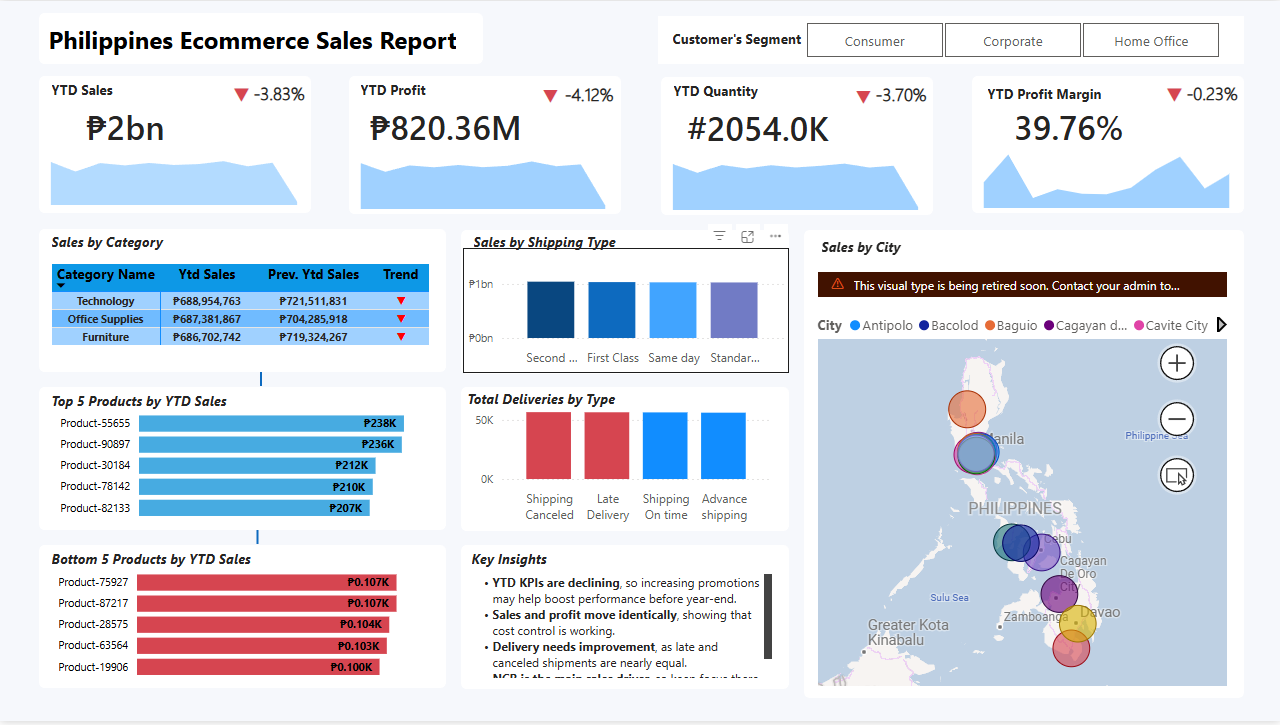

The page's visual inventory and layout, read from the dashboard file:
{"tool":"powerbi","page":{"name":"Page 1","canvas":[1280,720],"ordinal":0},"visuals":[{"type":"shape","box":[969.2,75.1,275,137.5],"z":0,"group":"g2"},{"type":"shape","box":[658.1,76.2,275,137.5],"z":0,"group":"g1"},{"type":"shape","box":[36,228,410,143],"z":0},{"type":"shape","box":[36.2,74.6,275,137.5],"z":1000},{"type":"card","fields":{"Values":["sales_record.YTD Profit Margin"]},"box":[979.6,95.8,180,61],"z":1000,"group":"g2"},{"type":"card","fields":{"Values":["sales_record.YTD Concatenated QTY"]},"box":[668.5,96.9,180,61],"z":1000,"group":"g1"},{"type":"card","fields":{"Values":["sales_record.YTD sales"]},"box":[40,95,171,62],"z":2000},{"type":"areaChart","fields":{"Category":["Calendar.Month"],"Y":["sales_record.Profit Margin"]},"box":[969.3,125.5,274.7,87.1],"z":2000,"group":"g2"},{"type":"areaChart","fields":{"Category":["Calendar.Month"],"Y":["Sum(sales_record.Order_quantity)"]},"box":[658.2,126.6,274.7,87.1],"z":2000,"group":"g1"},{"type":"textbox","box":[668.8,76,106.8,28.7],"z":3000,"group":"g1"},{"type":"textbox","box":[983.2,78.8,151.6,31.3],"z":3000,"group":"g2"},{"type":"areaChart","fields":{"Category":["Calendar.Month"],"Y":["Sum(sales_record.Sales_per_order)"]},"box":[35.9,127.5,275.6,81.7],"z":3000},{"type":"textbox","box":[46.9,74.6,79.9,28.8],"z":4000},{"type":"card","fields":{"Values":["sales_record.YOY Profit Margin"]},"box":[1180.2,78.3,63.9,33],"z":4000,"group":"g2"},{"type":"card","fields":{"Values":["sales_record.YOY QTY"]},"box":[869.1,79.4,63.9,33],"z":4000,"group":"g1"},{"type":"card","fields":{"Values":["sales_record.YOY Sales"]},"box":[247.3,77.8,63.9,33],"z":5000},{"type":"card","fields":{"Values":["sales_record.Profit Margin Icon"]},"box":[1160,81.5,28.8,25.6],"z":5000,"group":"g2"},{"type":"card","fields":{"Values":["sales_record.QTY Icon"]},"box":[848.9,82.6,28.8,25.6],"z":5000,"group":"g1"},{"type":"card","fields":{"Values":["sales_record.Sales Icon"]},"box":[227,81,28.8,25.6],"z":6000},{"type":"shape","box":[345.6,75.3,275,137.5],"z":7000},{"type":"card","fields":{"Values":["sales_record.YTD profit"]},"box":[356,96,180,61],"z":8000},{"type":"areaChart","fields":{"Category":["Calendar.Month"],"Y":["Sum(sales_record.Profit_per_order)"]},"box":[345.6,125.7,274.7,87.1],"z":9000},{"type":"textbox","box":[356.2,75.3,79.9,28.8],"z":10000},{"type":"card","fields":{"Values":["sales_record.YOY Profit"]},"box":[556.6,78.5,63.9,33],"z":11000},{"type":"card","fields":{"Values":["sales_record.Profit Icon"]},"box":[536.3,81.7,28.8,25.6],"z":12000},{"type":"group","id":"g1","title":"Group 1","box":[658.1,76,275,137.7],"z":13000},{"type":"group","id":"g2","title":"Group 1","box":[969.2,75.1,275,137.5],"z":14000},{"type":"shape","box":[36,12.3,447.2,51.2],"z":15000},{"type":"shape","box":[243.3,371.3,36,13.3],"z":16000},{"type":"shape","box":[800.8,229.2,443.3,467.5],"z":17000},{"type":"textbox","box":[47,227,126,30],"z":18000},{"type":"pivotTable","fields":{"Rows":["sales_record.Category_name"],"Values":["sales_record.YTD sales","sales_record.PREV. YTD Sales","sales_record.Sales Icon"]},"box":[47,258,389,99],"z":19000},{"type":"map","fields":{"Y":["philippines_cities_coordinates.Latitude"],"X":["philippines_cities_coordinates.Longitude"],"Size":["sales_record.YTD sales"],"Series":["philippines_cities_coordinates.Customer_city"]},"box":[813,266,419,419],"z":20000},{"type":"textbox","box":[817,232,133,30],"z":21000},{"type":"shape","box":[36,386,410,143],"z":22000},{"type":"shape","box":[36,544,410,143],"z":23000},{"type":"shape","box":[243,529,29,14],"z":24000},{"type":"textbox","box":[47,386,194,30],"z":25000},{"type":"shape","box":[458,229,331,144],"z":26000},{"type":"shape","box":[458,386,331,144],"z":27000},{"type":"shape","box":[458,544,331,144],"z":28000},{"type":"clusteredBarChart","fields":{"Category":["sales_record.Product_name"],"Y":["sales_record.YTD sales"]},"box":[49,393,397,136],"z":29000},{"type":"clusteredBarChart","fields":{"Category":["sales_record.Product_name"],"Y":["sales_record.YTD sales"]},"box":[47,552,389,136],"z":30000},{"type":"textbox","box":[47,544,215,27],"z":31000},{"type":"clusteredColumnChart","fields":{"Category":["sales_record.Shipping_type"],"Y":["sales_record.YTD sales"]},"box":[463,247,326,125],"z":32000},{"type":"textbox","box":[469,227,166,30],"z":33000},{"type":"columnChart","fields":{"Category":["sales_record.Delivery_status"],"Y":["CountNonNull(sales_record.Order_id)"]},"box":[470,393,306,136],"z":34000},{"type":"shape","box":[658,15,586,48],"z":35000},{"type":"slicer","fields":{"Values":["sales_record.Customer_segment"]},"box":[781,15,463,48],"z":36000},{"type":"textbox","box":[668,24,155,32],"z":37000},{"type":"textbox","box":[463,384,166,30],"z":38000},{"type":"textbox","box":[470,568,307,114],"z":39000},{"type":"textbox","box":[467,544,166,30],"z":40000}]}

Visuals, with their boxes in screenshot pixels (x1, y1, x2, y2), scaled from the page's 1280x720 canvas onto the 1280x725 screenshot:
shape: bbox=(969, 76, 1244, 214)
shape: bbox=(658, 77, 933, 215)
shape: bbox=(36, 230, 446, 374)
shape: bbox=(36, 75, 311, 214)
card - sales_record.YTD Profit Margin: bbox=(980, 96, 1160, 158)
card - sales_record.YTD Concatenated QTY: bbox=(668, 98, 848, 159)
card - sales_record.YTD sales: bbox=(40, 96, 211, 158)
areaChart - Calendar.Month x sales_record.Profit Margin: bbox=(969, 126, 1244, 214)
areaChart - Calendar.Month x Sum(sales_record.Order_quantity): bbox=(658, 127, 933, 215)
textbox: bbox=(669, 77, 776, 105)
textbox: bbox=(983, 79, 1135, 111)
areaChart - Calendar.Month x Sum(sales_record.Sales_per_order): bbox=(36, 128, 312, 211)
textbox: bbox=(47, 75, 127, 104)
card - sales_record.YOY Profit Margin: bbox=(1180, 79, 1244, 112)
card - sales_record.YOY QTY: bbox=(869, 80, 933, 113)
card - sales_record.YOY Sales: bbox=(247, 78, 311, 112)
card - sales_record.Profit Margin Icon: bbox=(1160, 82, 1189, 108)
card - sales_record.QTY Icon: bbox=(849, 83, 878, 109)
card - sales_record.Sales Icon: bbox=(227, 82, 256, 107)
shape: bbox=(346, 76, 621, 214)
card - sales_record.YTD profit: bbox=(356, 97, 536, 158)
areaChart - Calendar.Month x Sum(sales_record.Profit_per_order): bbox=(346, 127, 620, 214)
textbox: bbox=(356, 76, 436, 105)
card - sales_record.YOY Profit: bbox=(557, 79, 620, 112)
card - sales_record.Profit Icon: bbox=(536, 82, 565, 108)
"Group 1" group: bbox=(658, 77, 933, 215)
"Group 1" group: bbox=(969, 76, 1244, 214)
shape: bbox=(36, 12, 483, 64)
shape: bbox=(243, 374, 279, 387)
shape: bbox=(801, 231, 1244, 702)
textbox: bbox=(47, 229, 173, 259)
pivotTable - sales_record.Category_name x sales_record.YTD sales: bbox=(47, 260, 436, 359)
map - philippines_cities_coordinates.Latitude x philippines_cities_coordinates.Longitude: bbox=(813, 268, 1232, 690)
textbox: bbox=(817, 234, 950, 264)
shape: bbox=(36, 389, 446, 533)
shape: bbox=(36, 548, 446, 692)
shape: bbox=(243, 533, 272, 547)
textbox: bbox=(47, 389, 241, 419)
shape: bbox=(458, 231, 789, 376)
shape: bbox=(458, 389, 789, 534)
shape: bbox=(458, 548, 789, 693)
clusteredBarChart - sales_record.Product_name x sales_record.YTD sales: bbox=(49, 396, 446, 533)
clusteredBarChart - sales_record.Product_name x sales_record.YTD sales: bbox=(47, 556, 436, 693)
textbox: bbox=(47, 548, 262, 575)
clusteredColumnChart - sales_record.Shipping_type x sales_record.YTD sales: bbox=(463, 249, 789, 375)
textbox: bbox=(469, 229, 635, 259)
columnChart - sales_record.Delivery_status x CountNonNull(sales_record.Order_id): bbox=(470, 396, 776, 533)
shape: bbox=(658, 15, 1244, 63)
slicer - sales_record.Customer_segment: bbox=(781, 15, 1244, 63)
textbox: bbox=(668, 24, 823, 56)
textbox: bbox=(463, 387, 629, 417)
textbox: bbox=(470, 572, 777, 687)
textbox: bbox=(467, 548, 633, 578)
